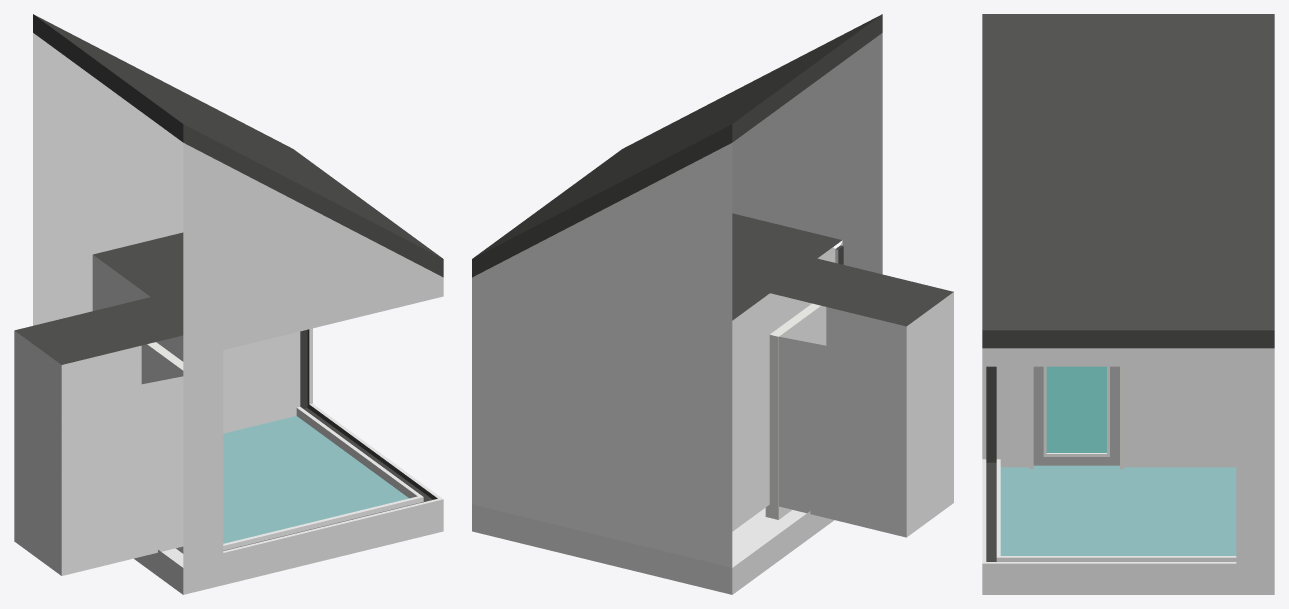
The model's file is houseParts.glb.
3 renders of one model, left to right at view 1: azimuth 30°, elevation 25°; view 2: azimuth 150°, elevation 25°; view 3: azimuth 270°, elevation 25°, orthographic. The views are drawn at different scales.
Parts seen in each view (by area): view 1: sideRight, Cube.002; view 2: sideRight, Cube.002; view 3: sideRight, Cube.002.
Part boxes in pixels (bbox=[...]): sideRight: bbox=[14, 14, 443, 594]; Cube.002: bbox=[141, 342, 183, 553]; sideRight: bbox=[472, 14, 953, 594]; Cube.002: bbox=[765, 303, 826, 519]; sideRight: bbox=[982, 14, 1274, 594]; Cube.002: bbox=[1029, 366, 1124, 469].
Bounding box in the file's own units: 13.7 × 17.28 × 10.
